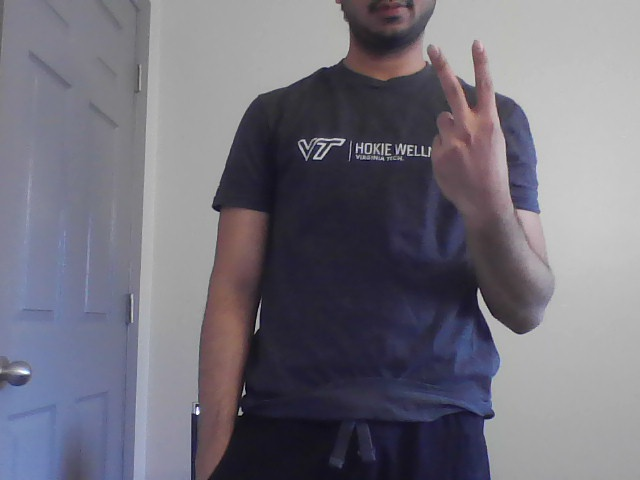two: (421, 38, 515, 197)
